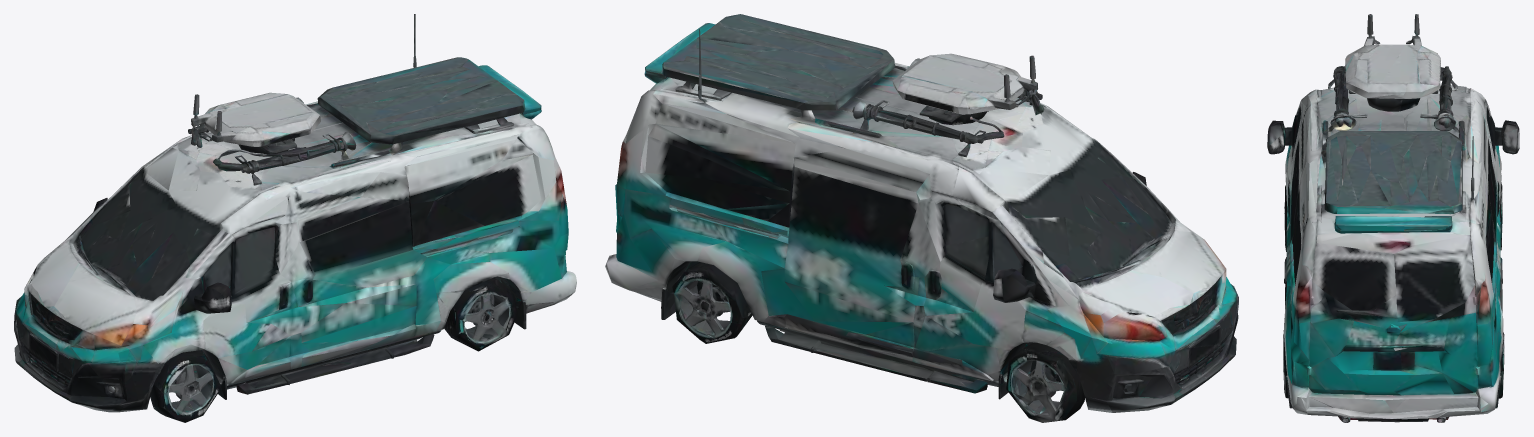
Rendered from mx_car_van.glb.
The picture shows the model from 3 angles, left to right: view 1: azimuth 30°, elevation 25°; view 2: azimuth 150°, elevation 25°; view 3: azimuth 270°, elevation 25°; orthographic projection. The views are drawn at different scales.
Bounding box in the file's own units: 1.9 × 0.9769 × 0.8194.
Materials: 1 (1 with a texture image).
